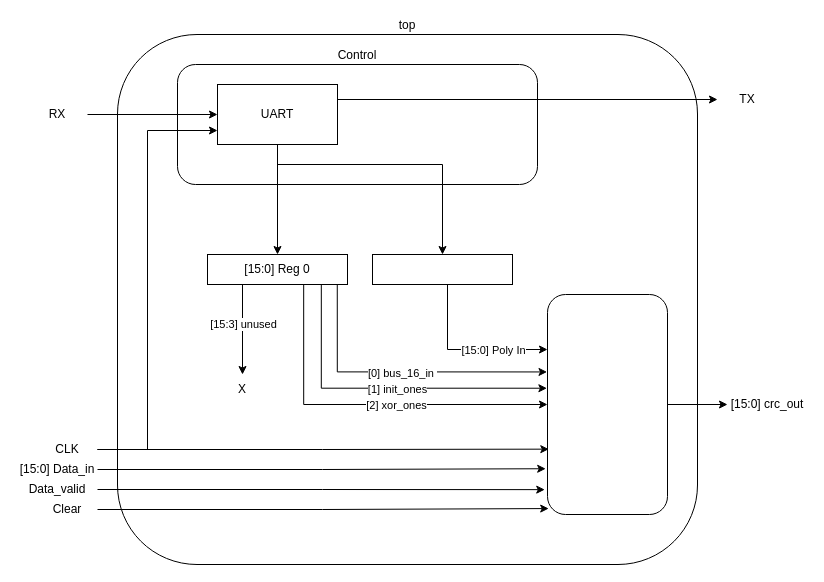
Some shapes in this 824 by 582 pixel diagram are drawn without their labels. The box of each missing label's shape, as (x1, y1, x2, y2) in pixels:
[15:0] Reg 1: (372, 254, 512, 284)
CRC: (546, 294, 668, 514)
